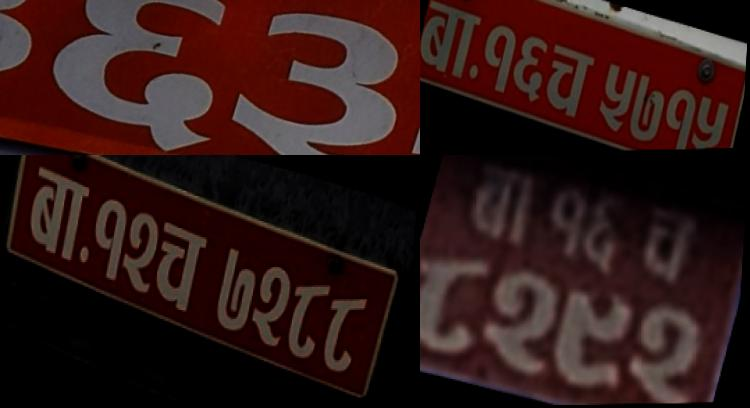1: (534, 173, 598, 270), (79, 192, 136, 288), (474, 15, 524, 100), (657, 76, 704, 151)
2: (474, 262, 574, 383), (619, 297, 722, 405), (245, 254, 301, 358), (117, 205, 170, 298)
3: (212, 0, 420, 155), (0, 0, 72, 126)
5: (592, 56, 642, 138), (689, 86, 737, 151)
6: (30, 0, 264, 155), (576, 187, 641, 283), (507, 26, 556, 110)
7: (209, 246, 268, 342), (626, 67, 674, 150)
8: (420, 238, 500, 364), (317, 277, 384, 382), (279, 265, 340, 367)
9: (548, 280, 648, 400)
ba: (455, 155, 552, 255), (16, 161, 98, 270), (420, 0, 485, 89)
cha: (147, 212, 216, 320), (630, 197, 706, 295), (537, 37, 601, 127)
